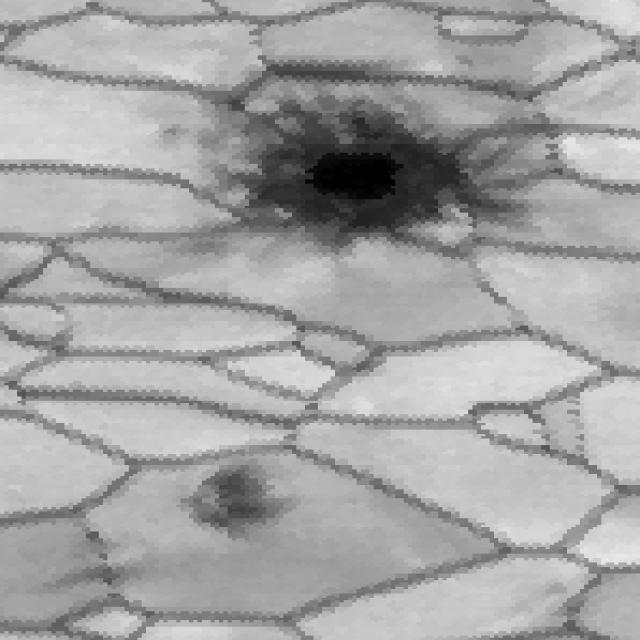good_void: (150, 32, 601, 250), (170, 446, 314, 564), (24, 514, 168, 615)
